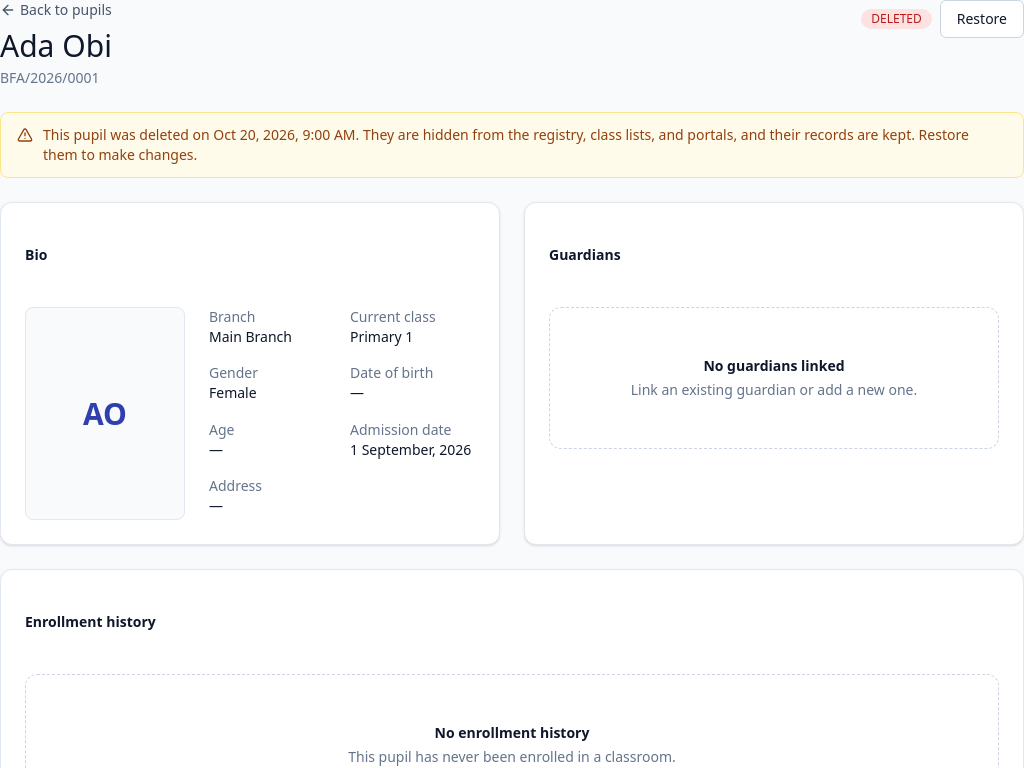
Scenario: StudentDetailPage › shows a deleted student read-only with a Restore action
Expected: the text "This pupil was deleted" is shown, [43, 125, 189, 144]
Expected: the button "Edit" is not shown
Step 1. Click the button "Restore" → (982, 19), box [940, 0, 1023, 38]
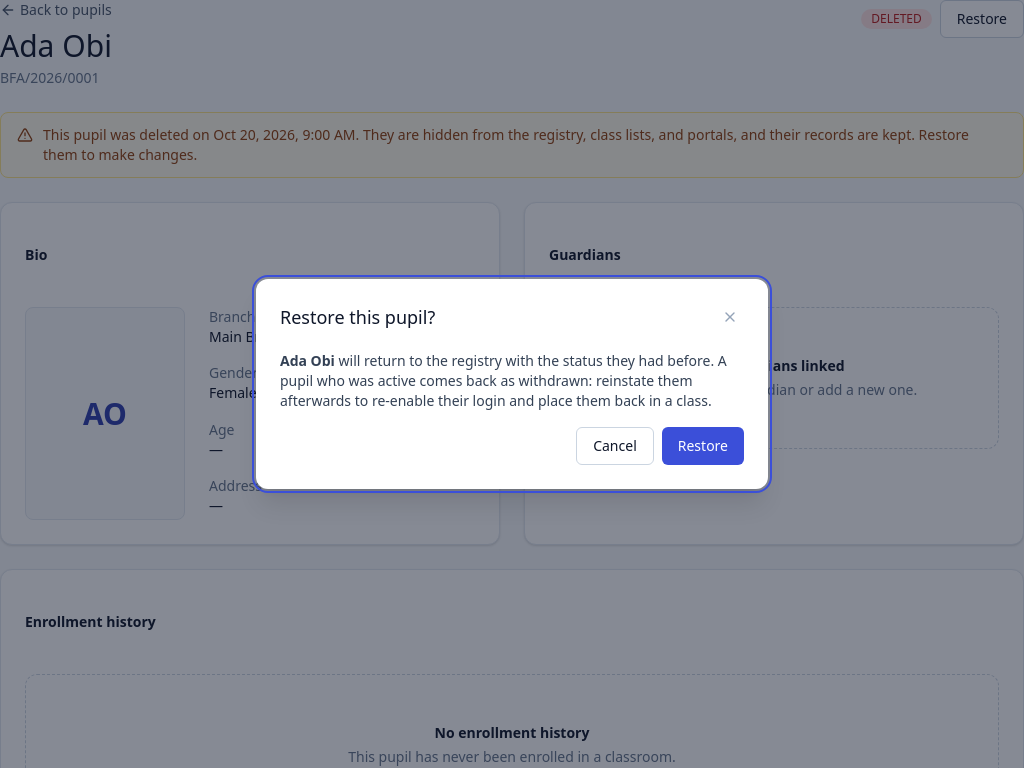
Step 2. Click the button "Restore" → (703, 446), box [662, 427, 744, 465]
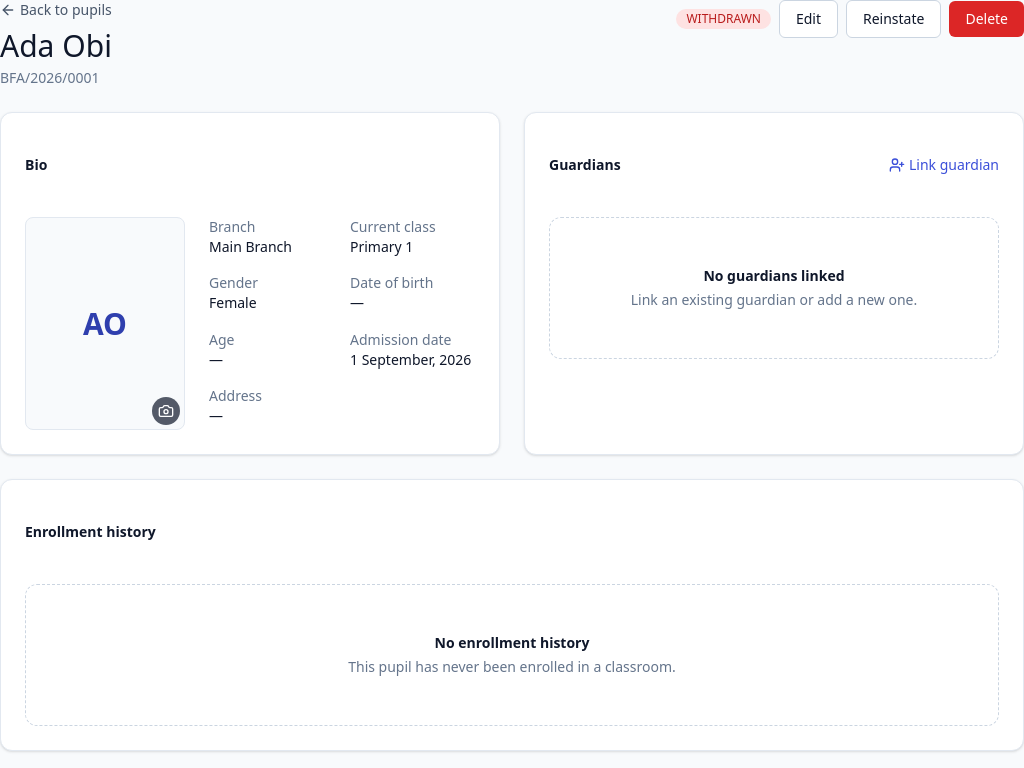
Now the text "This pupil was deleted" is gone
